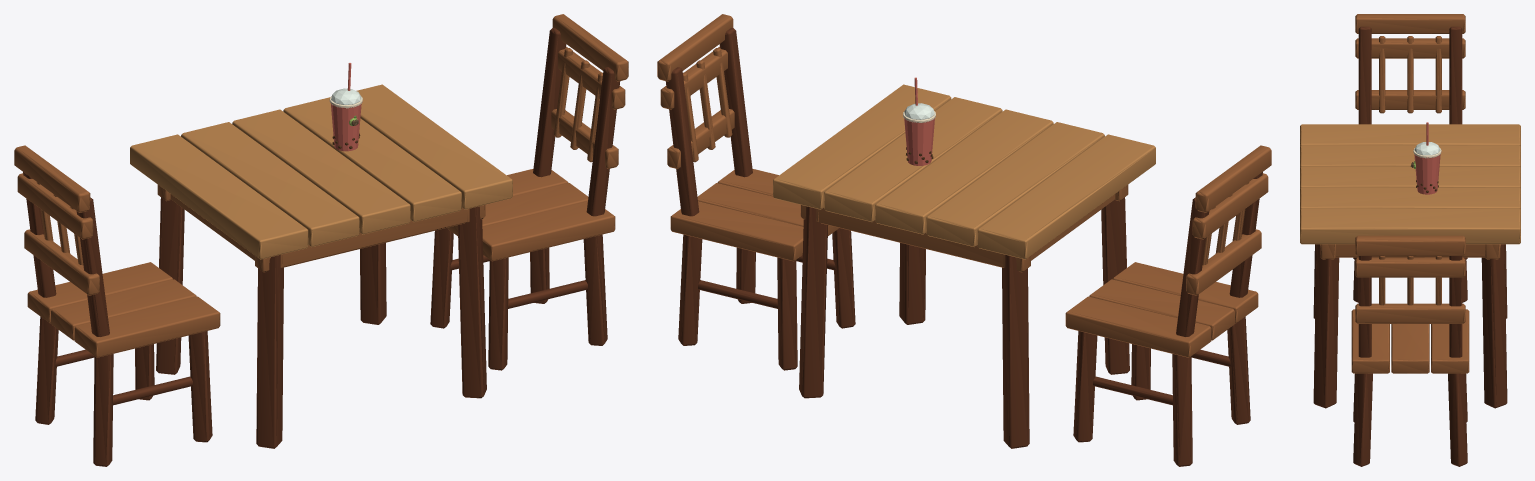
File: square_table_set.fbx
3 views of the same model, side by side, from view 1: azimuth 30°, elevation 25°; view 2: azimuth 150°, elevation 25°; view 3: azimuth 270°, elevation 25° (orthographic). The views are drawn at different scales.
Visible parts, largest first — view 1: square_table_set; view 2: square_table_set; view 3: square_table_set.
Part boxes in pixels (bbox=[...]): square_table_set: bbox=[14, 14, 628, 466]; square_table_set: bbox=[657, 14, 1271, 466]; square_table_set: bbox=[1300, 14, 1520, 466].
Bounding box in the file's own units: 190 × 99.59 × 78.
